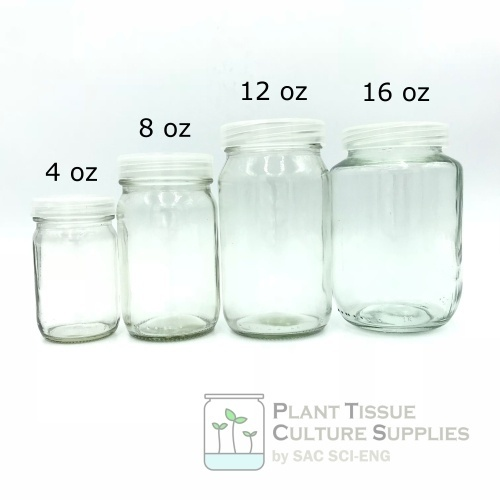glass_bottle: (330, 111, 468, 342), (221, 116, 333, 342), (119, 155, 221, 344), (27, 194, 121, 343)
